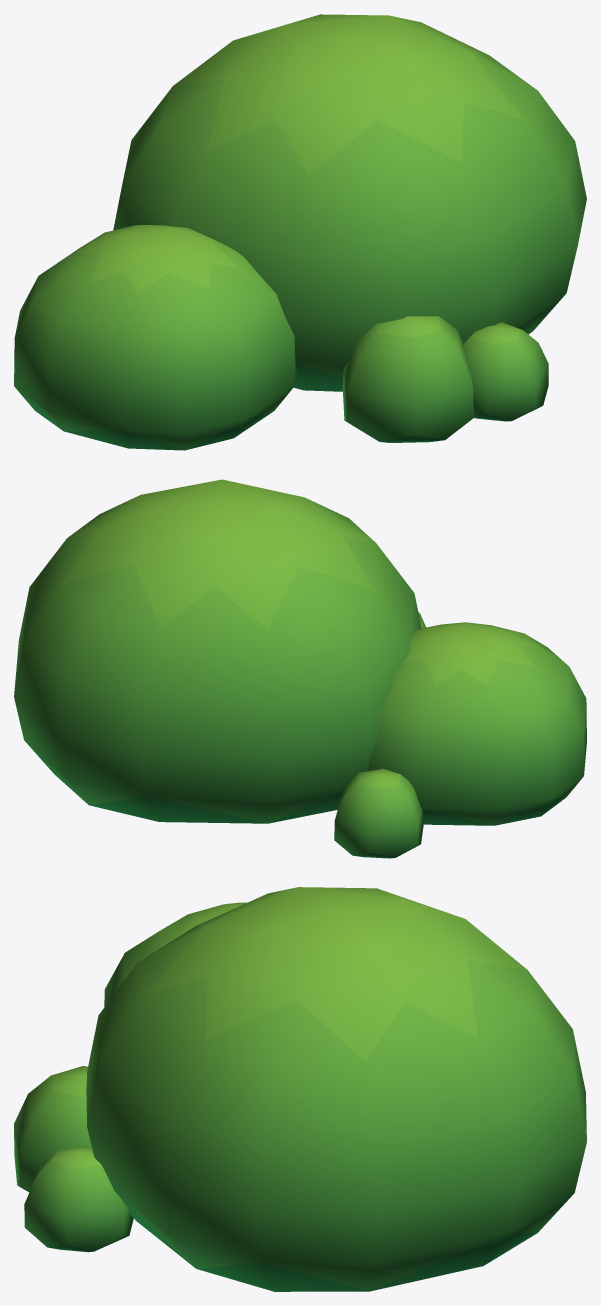
The model's file is Bush_1_E_Color1.glb.
The picture shows the model from 3 angles, top to bottom: view 1: azimuth 30°, elevation 25°; view 2: azimuth 150°, elevation 25°; view 3: azimuth 270°, elevation 25°; orthographic projection. The views are drawn at different scales.
Parts seen in each view (by area): view 1: Bush_1_E_Color1; view 2: Bush_1_E_Color1; view 3: Bush_1_E_Color1.
Part boxes in pixels (x1=…): Bush_1_E_Color1: x1=14, y1=14, x2=586, y2=450; Bush_1_E_Color1: x1=14, y1=479, x2=586, y2=858; Bush_1_E_Color1: x1=14, y1=887, x2=586, y2=1291.
Bounding box in the file's own units: 1.58 × 0.8084 × 1.32.
Materials: 1 (1 with a texture image).
